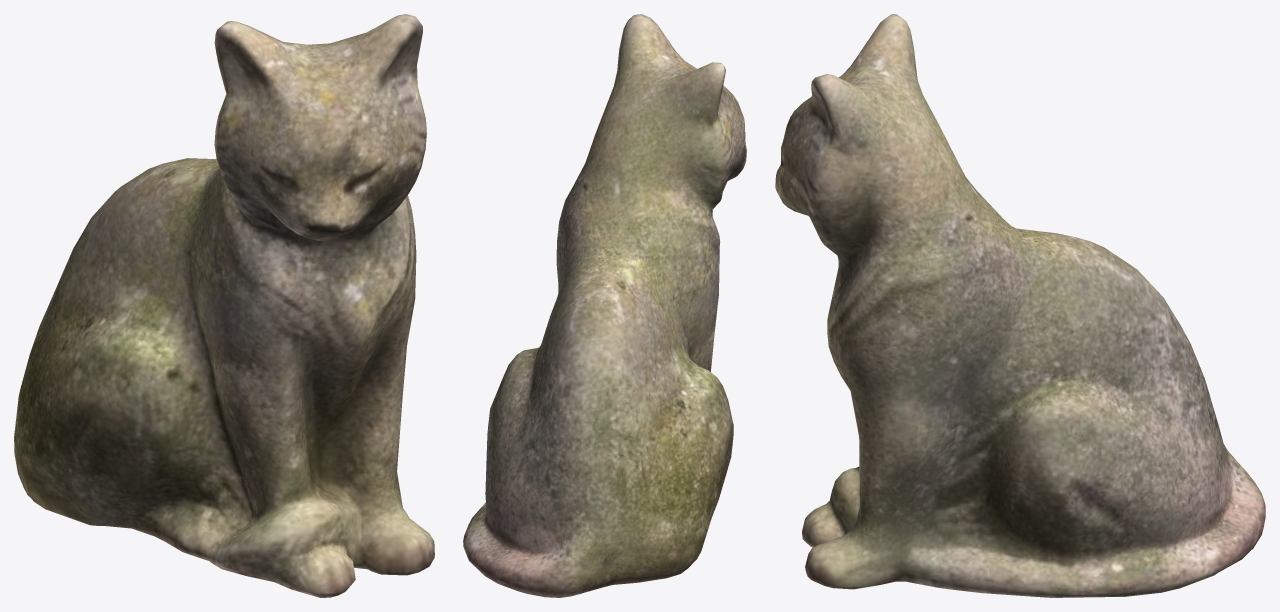
Rendered from concrete_cat_statue.glb.
The picture shows the model from 3 angles, left to right: view 1: azimuth 30°, elevation 25°; view 2: azimuth 150°, elevation 25°; view 3: azimuth 270°, elevation 25°; orthographic projection. The views are drawn at different scales.
Visible parts, largest first — view 1: concrete_cat_statue; view 2: concrete_cat_statue; view 3: concrete_cat_statue.
Boxes of the visible parts, x1,y1,x2,y2 form: concrete_cat_statue: (14, 14, 434, 597); concrete_cat_statue: (463, 14, 746, 597); concrete_cat_statue: (775, 14, 1265, 597).
Size of the model in its own units: 0.1529 by 0.2828 by 0.2497.
1 material, 1 textured.
